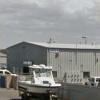Boat: (12, 61, 61, 97)
